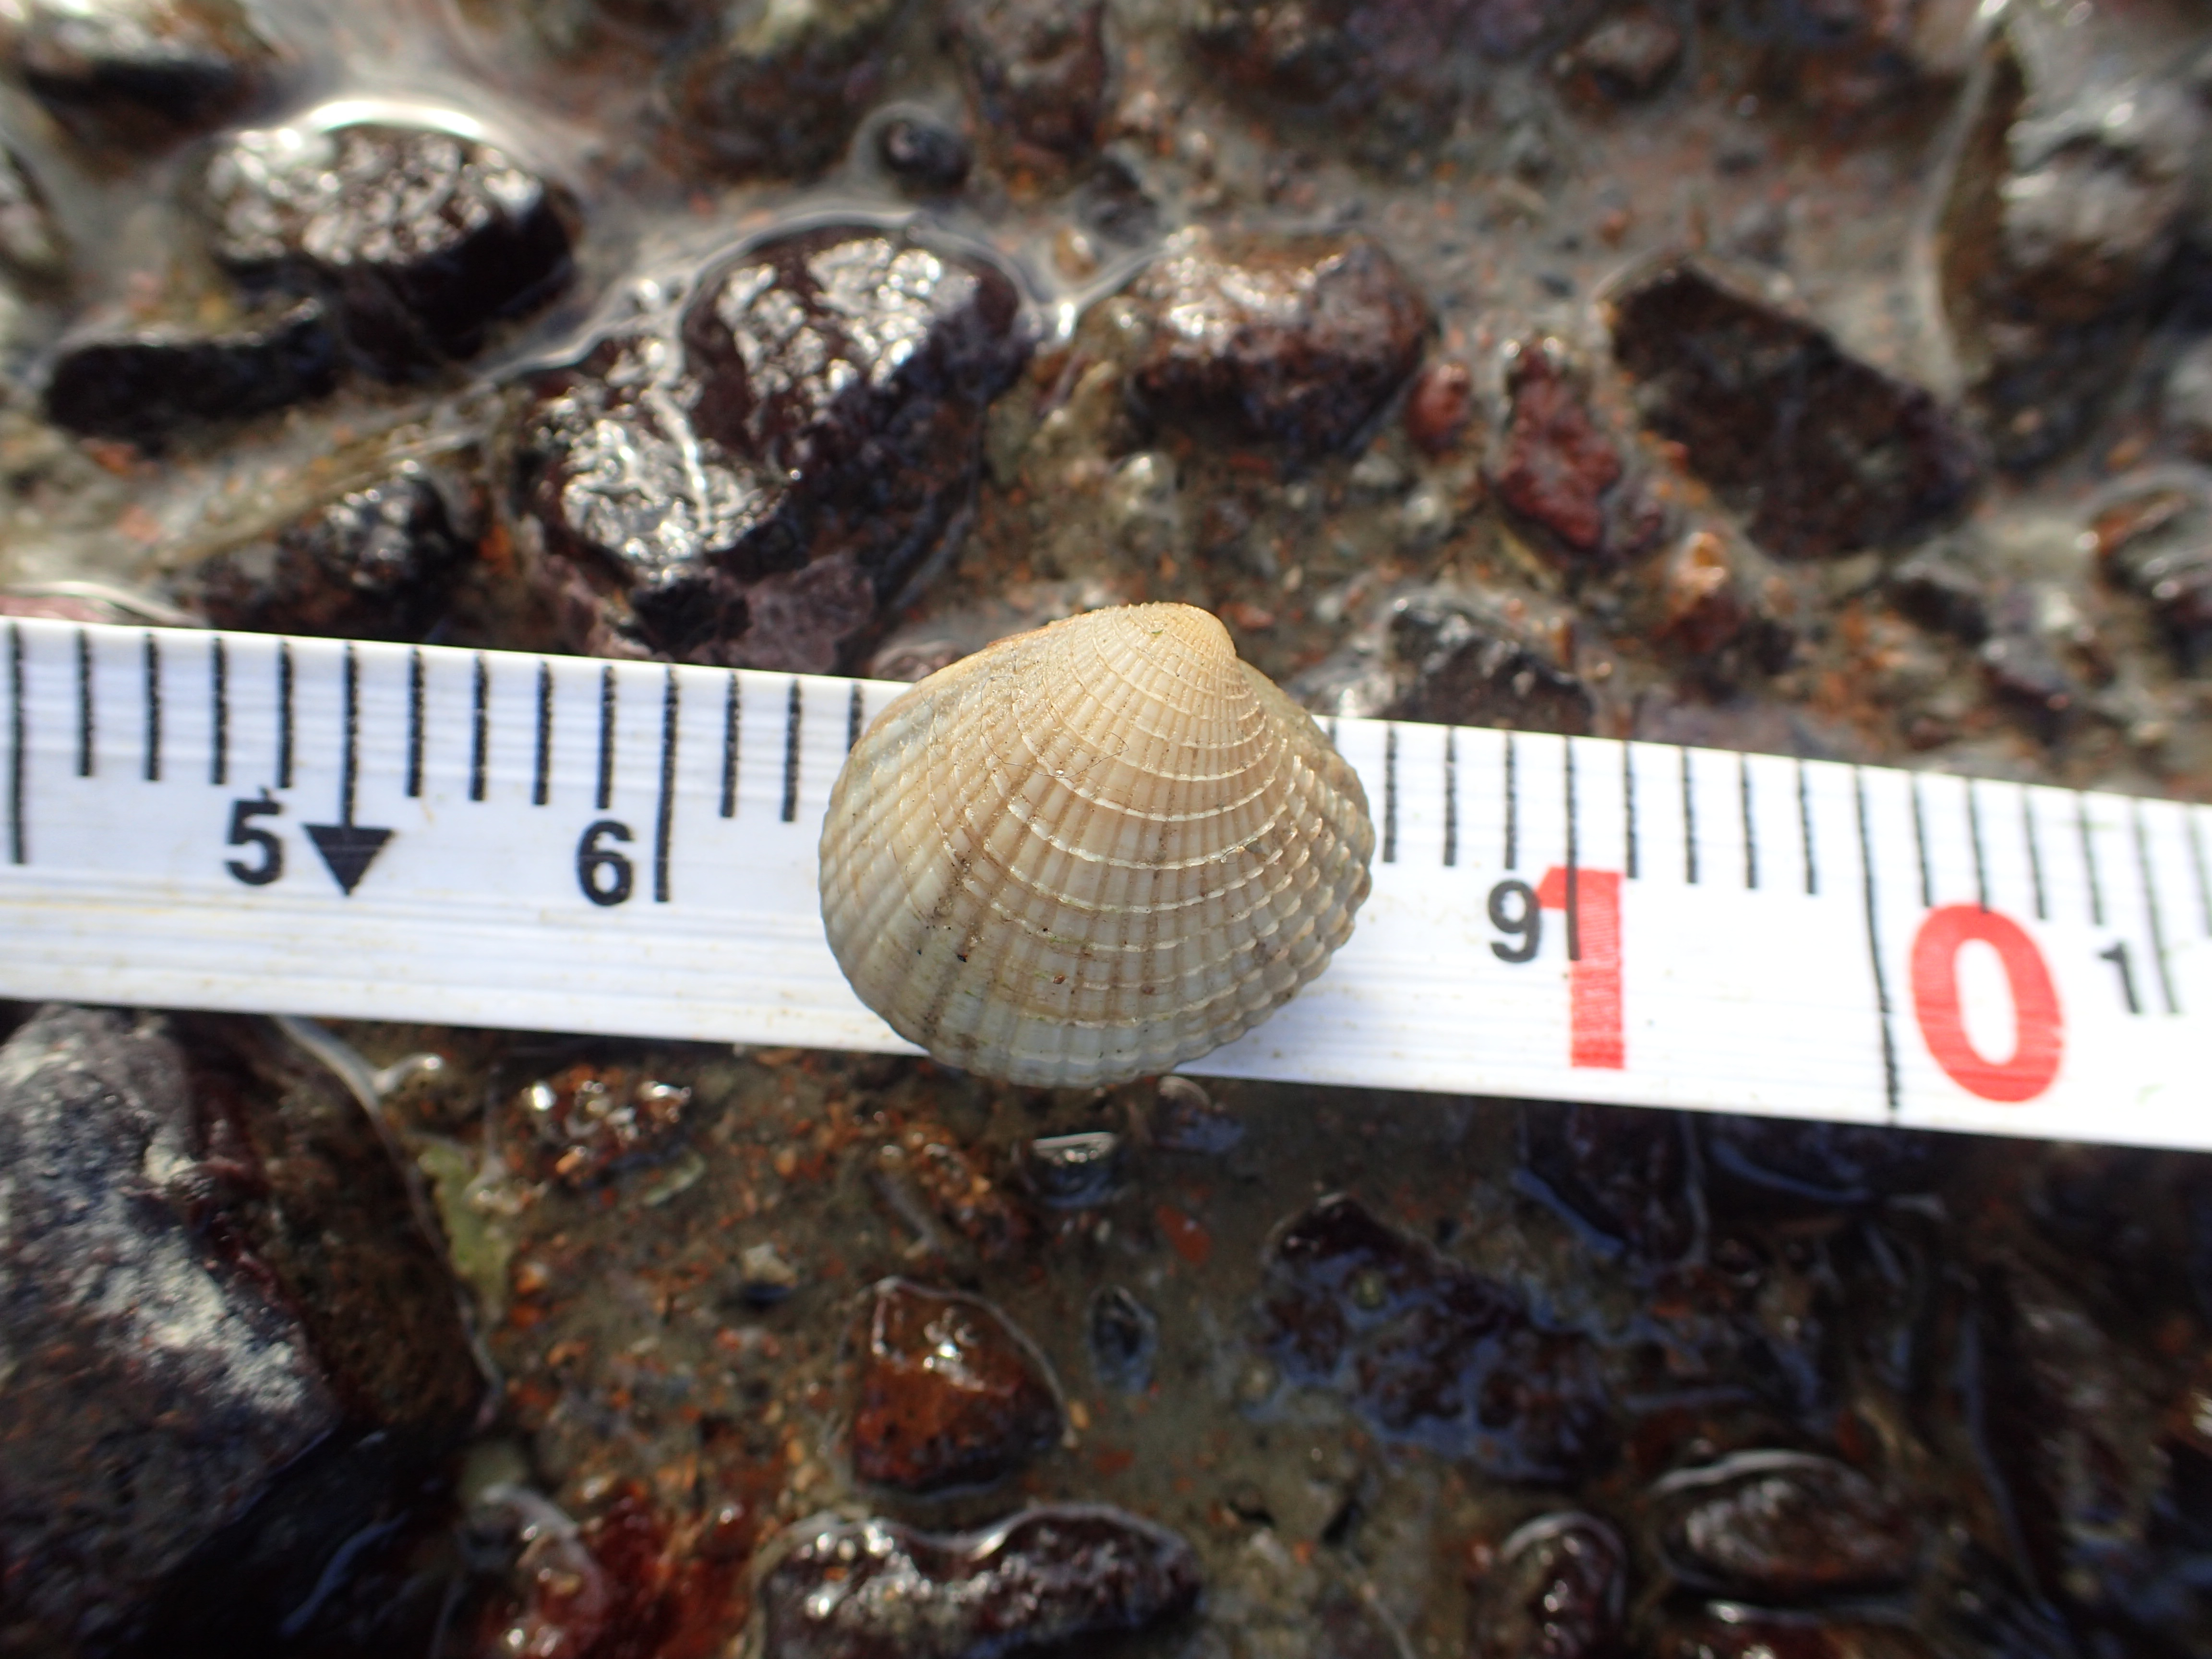cockle: (812, 594, 1379, 1096)
